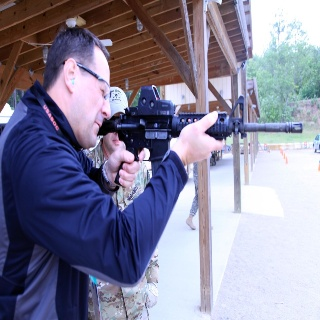rifle: (95, 84, 306, 185)
